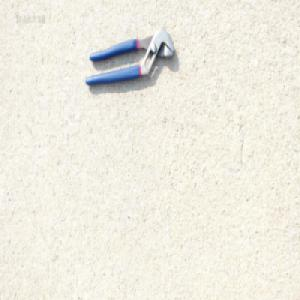Pliers: (84, 25, 174, 86)
